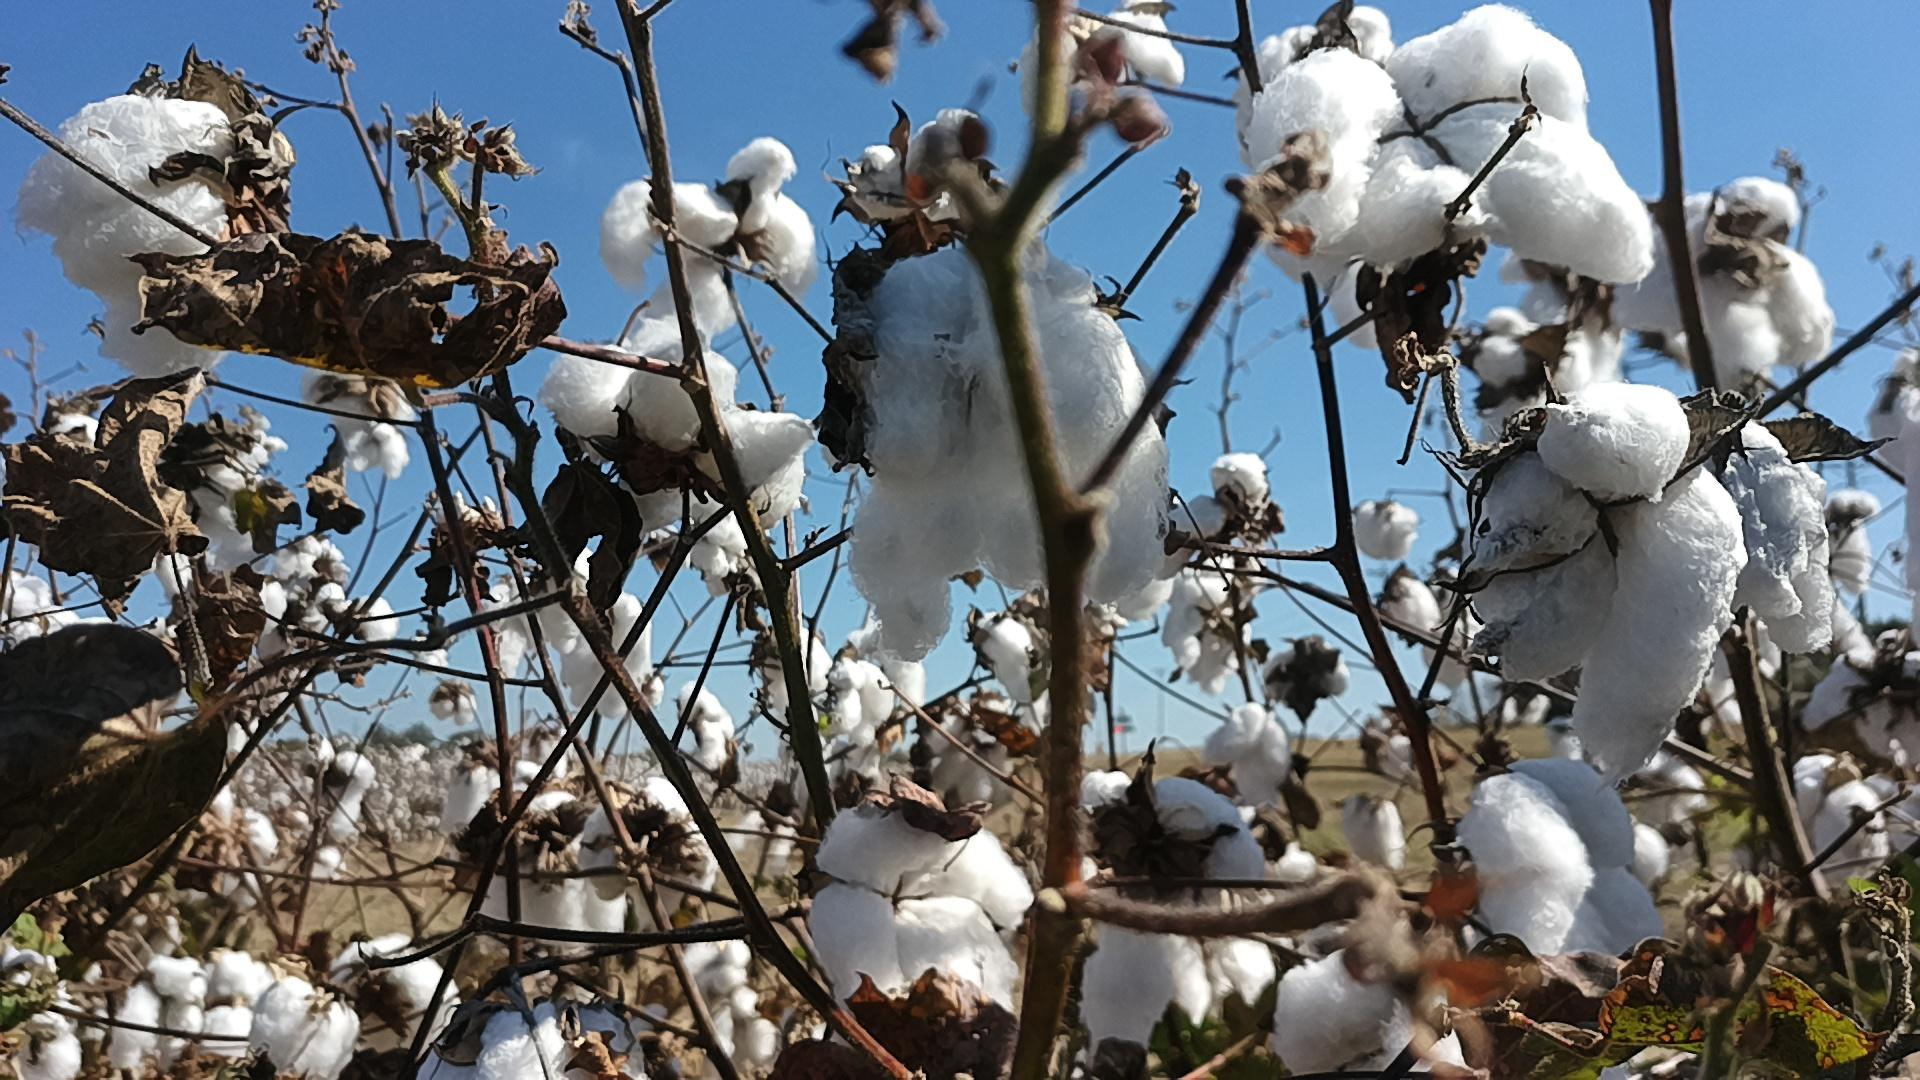cotton_ready: (849, 235, 1172, 667), (1461, 381, 1749, 791), (1241, 4, 1656, 286), (12, 92, 269, 382), (1079, 771, 1302, 1068), (541, 344, 814, 520), (605, 140, 824, 357), (810, 802, 1034, 1014), (1614, 179, 1833, 382), (1456, 758, 1662, 961), (465, 794, 628, 959), (1270, 948, 1466, 1080), (1727, 414, 1836, 653), (576, 777, 717, 931), (840, 102, 1007, 229), (415, 997, 651, 1080), (1014, 11, 1184, 124), (1497, 241, 1630, 378), (1469, 305, 1589, 446), (1796, 757, 1920, 891), (1159, 454, 1276, 587), (339, 935, 462, 1048), (556, 593, 665, 717), (481, 559, 583, 687), (1799, 647, 1920, 754), (247, 972, 360, 1080), (102, 956, 208, 1071), (187, 435, 272, 572), (0, 945, 83, 1080), (1162, 578, 1247, 696), (4, 572, 119, 659), (309, 357, 418, 444), (206, 948, 289, 1060), (440, 761, 550, 844), (1203, 705, 1292, 799), (975, 613, 1055, 707), (816, 661, 897, 750), (793, 735, 882, 812), (754, 621, 829, 711), (699, 990, 775, 1077), (676, 682, 736, 781), (930, 741, 1013, 800), (1261, 647, 1353, 700), (690, 512, 750, 580), (339, 421, 407, 477), (684, 942, 752, 989)
